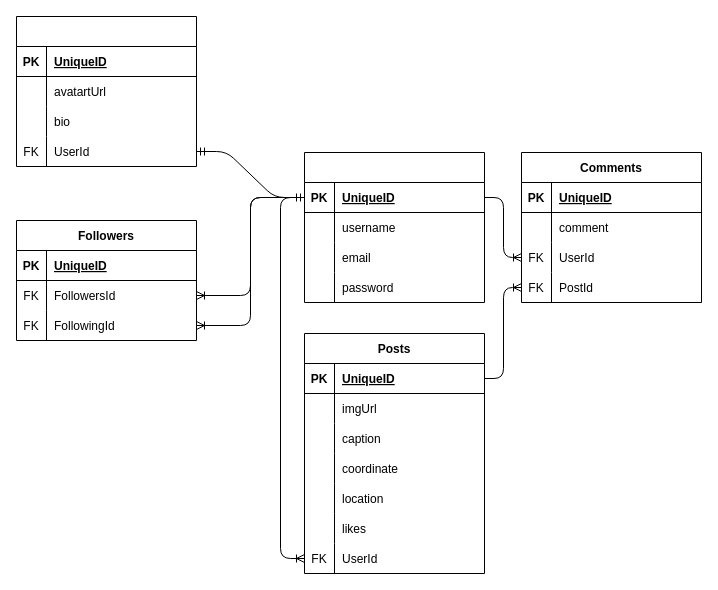
Some shapes in this 718 by 590 pixel diagram are drawn without their labels. Each missing label, with the box of its shape:
Profiles: (16, 16, 196, 166)
Users: (304, 152, 484, 302)
